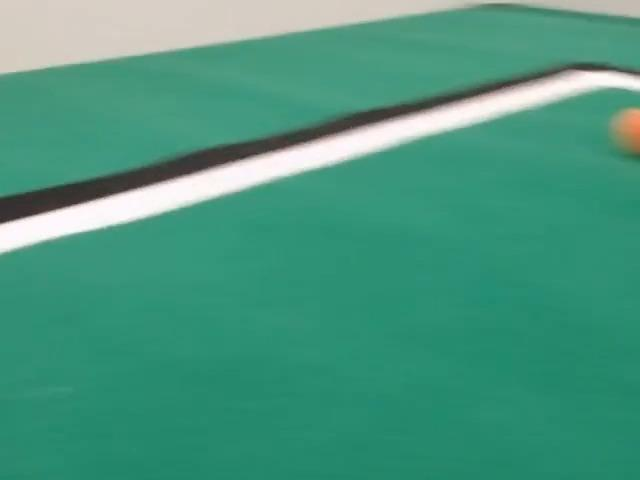Ball: (612, 109, 640, 156)
